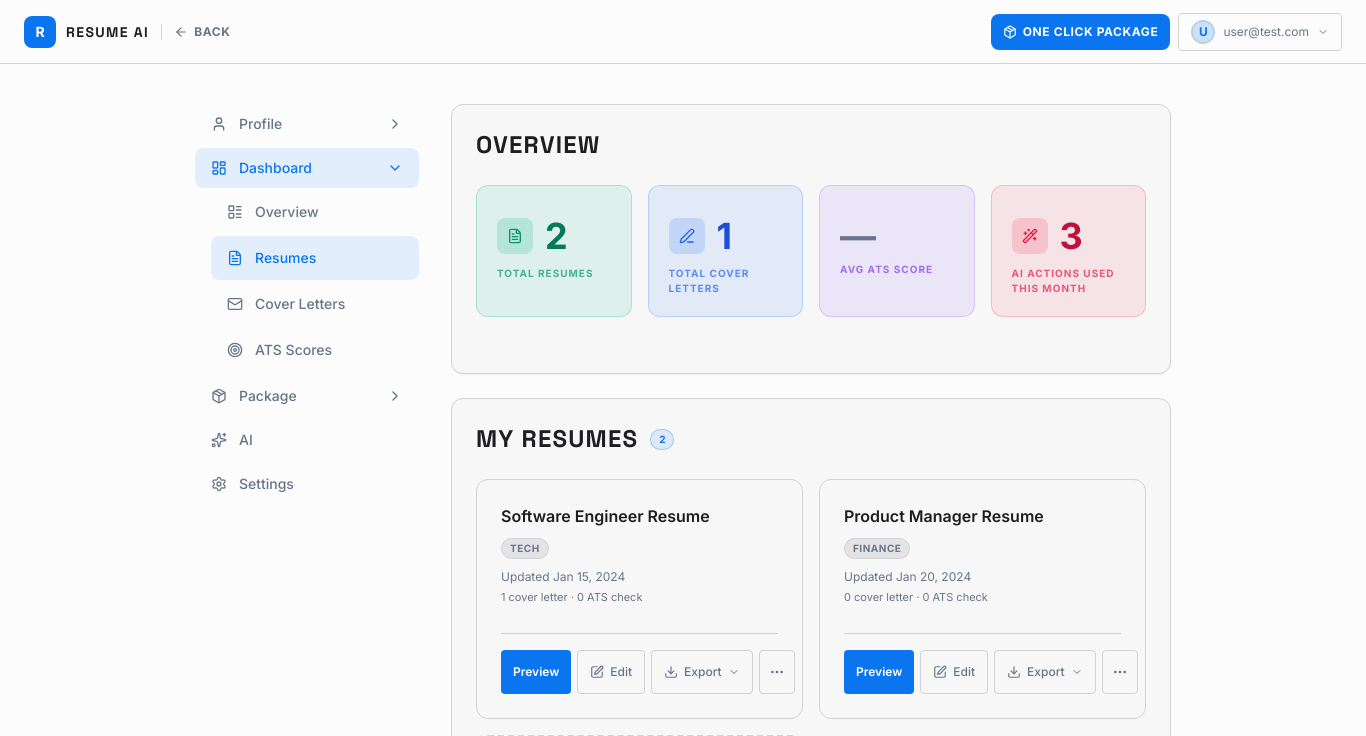
Test: Dashboard — delete flow › clicking Delete shows the confirmation modal
Click the button named "more options" below "Jan 15, 2024": (777, 672) [759,650,795,694]
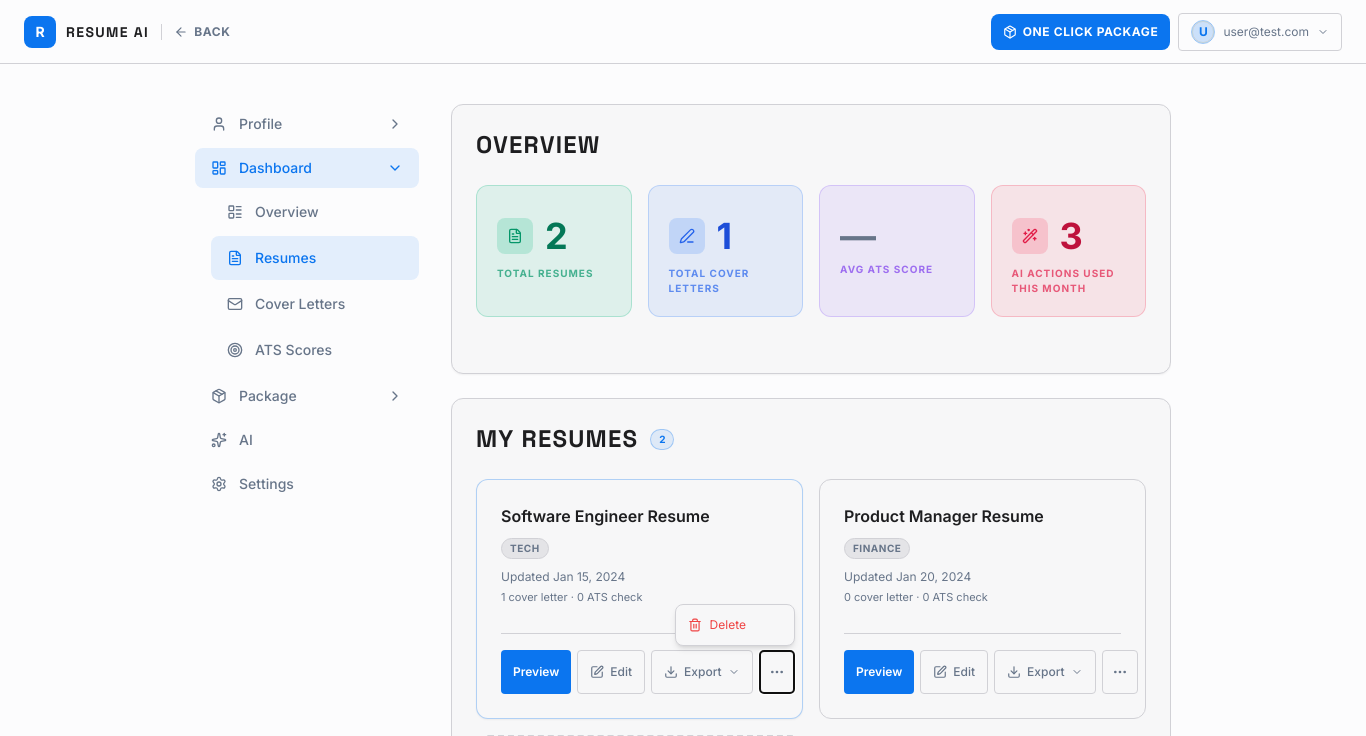
Click the button "Delete": (735, 625) [676,609,794,641]
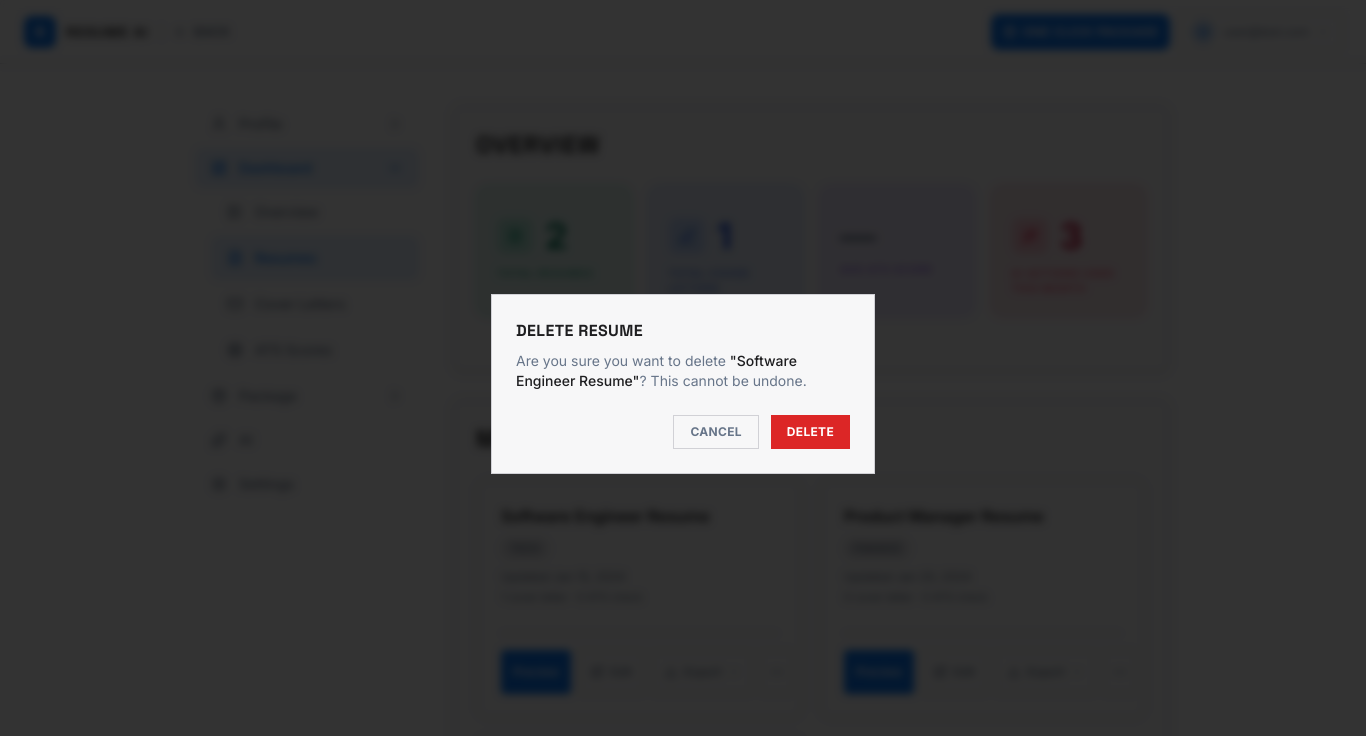
expect the heading "Delete Resume" is shown: met, box [516,320,643,341]
expect the text "cannot be undone" is shown: met, box [640,372,807,389]
